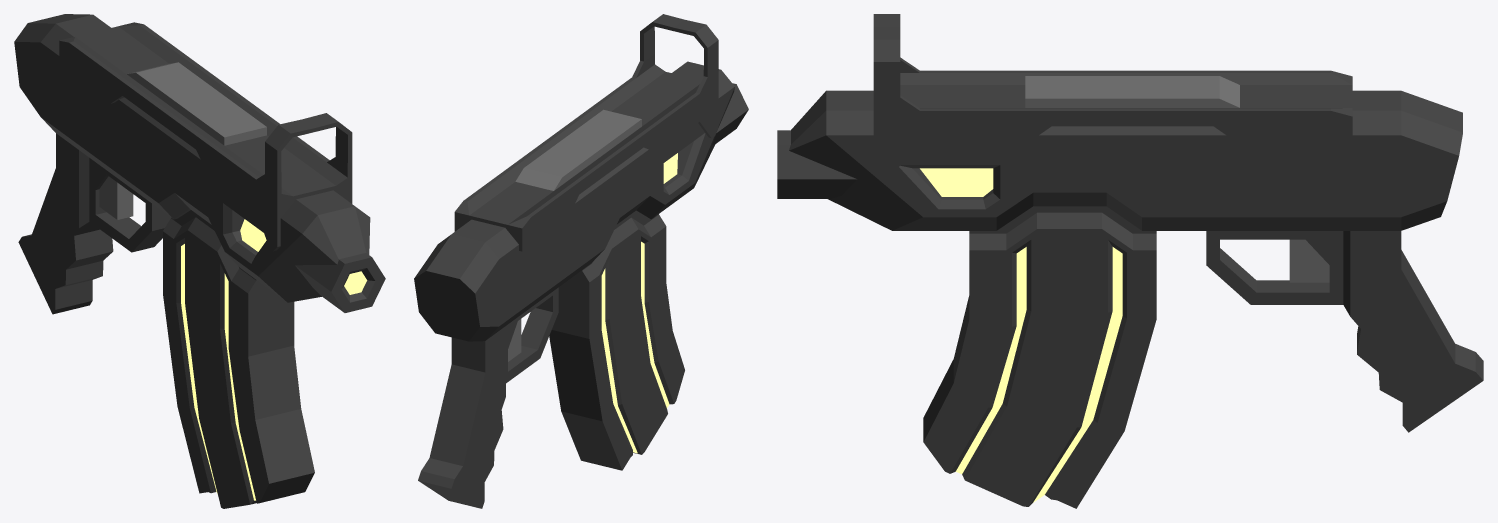
The model's file is WristBreaker.fbx.
3 renders of one model, left to right at view 1: azimuth 30°, elevation 25°; view 2: azimuth 150°, elevation 25°; view 3: azimuth 270°, elevation 25°, orthographic. The views are drawn at different scales.
Parts seen in each view (by area): view 1: WristBreaker; view 2: WristBreaker; view 3: WristBreaker.
Part boxes in pixels (bbox=[...]): WristBreaker: bbox=[14, 14, 385, 508]; WristBreaker: bbox=[414, 14, 748, 508]; WristBreaker: bbox=[777, 14, 1483, 508].
Bounding box in the file's own units: 51.2 × 279 × 380.
